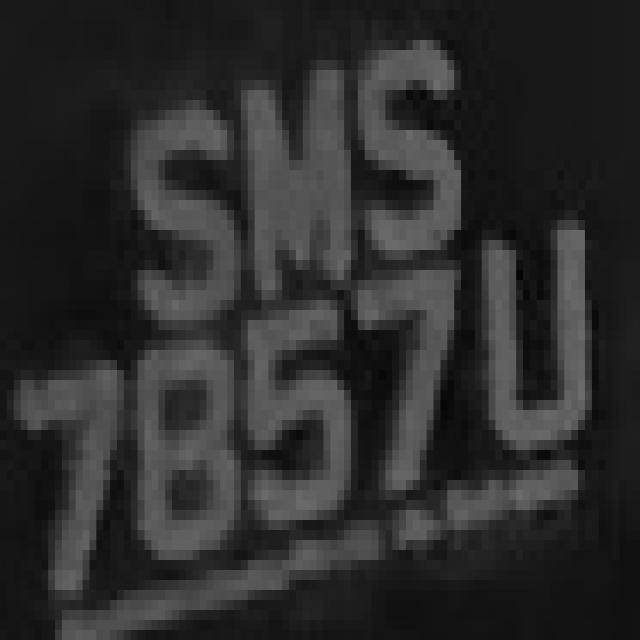5: (220, 270, 358, 570)
7: (344, 260, 468, 520), (7, 350, 117, 620)
8: (117, 310, 241, 580)
M: (213, 40, 365, 300)
S: (96, 90, 248, 320), (351, 40, 482, 260)
U: (468, 220, 619, 470)
